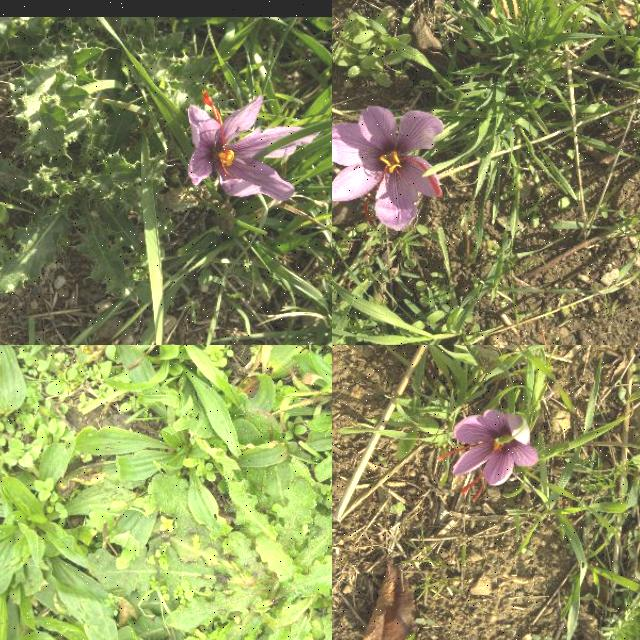flower: (188, 90, 320, 200), (332, 106, 444, 230), (438, 408, 540, 504)
